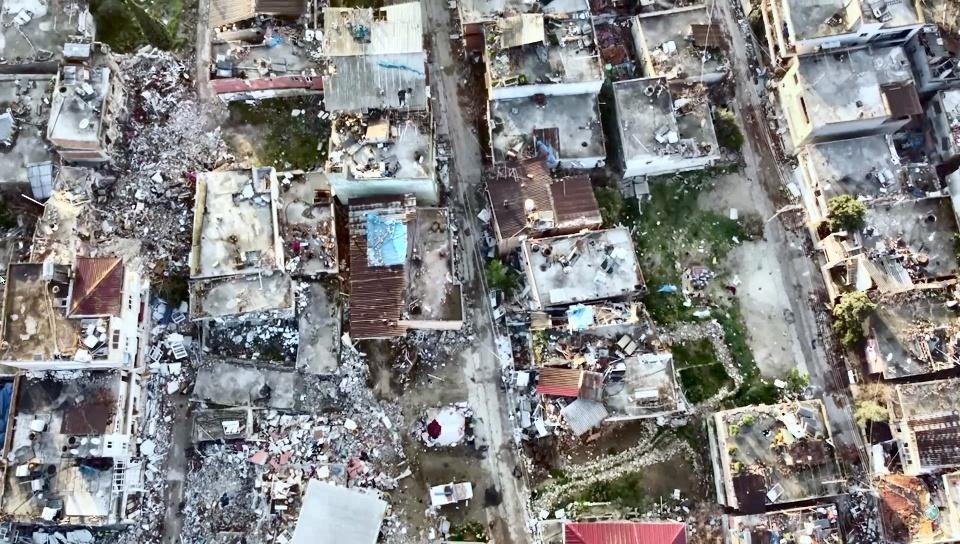kapali: (136, 79, 223, 543)
